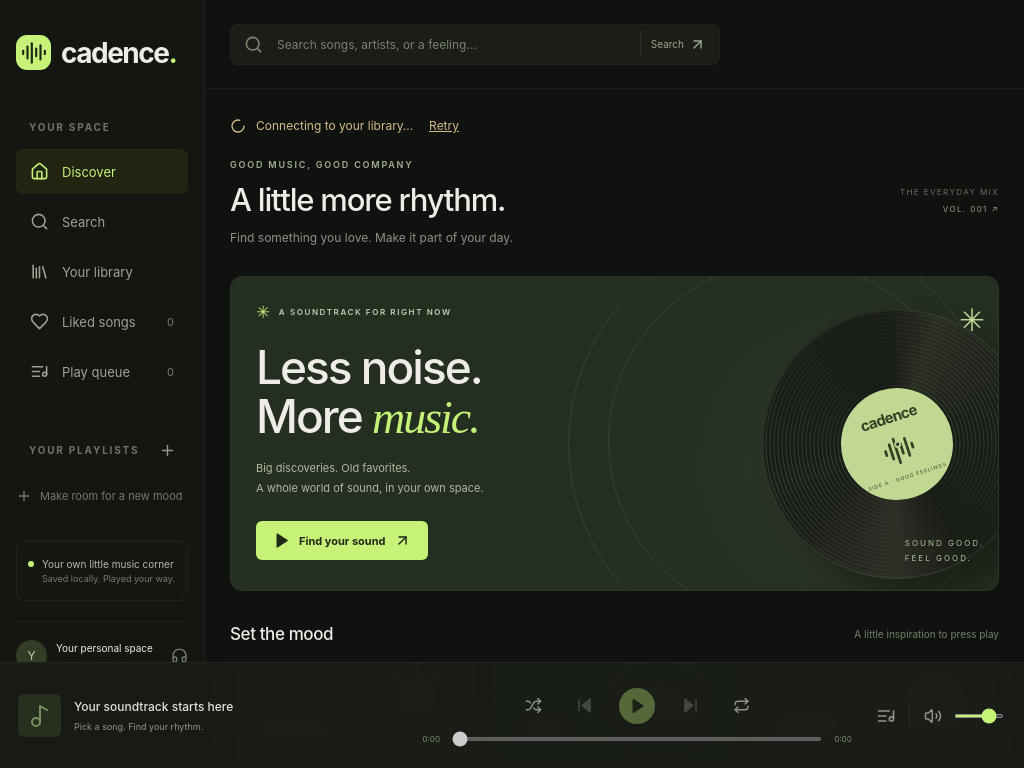
Test case: music app › starts a download when a result is clicked
The width and height of the screenshot is (1024, 768).
Type "Ocean" into the field named "Search YouTube" at (451, 44), box [275,36,628,52]
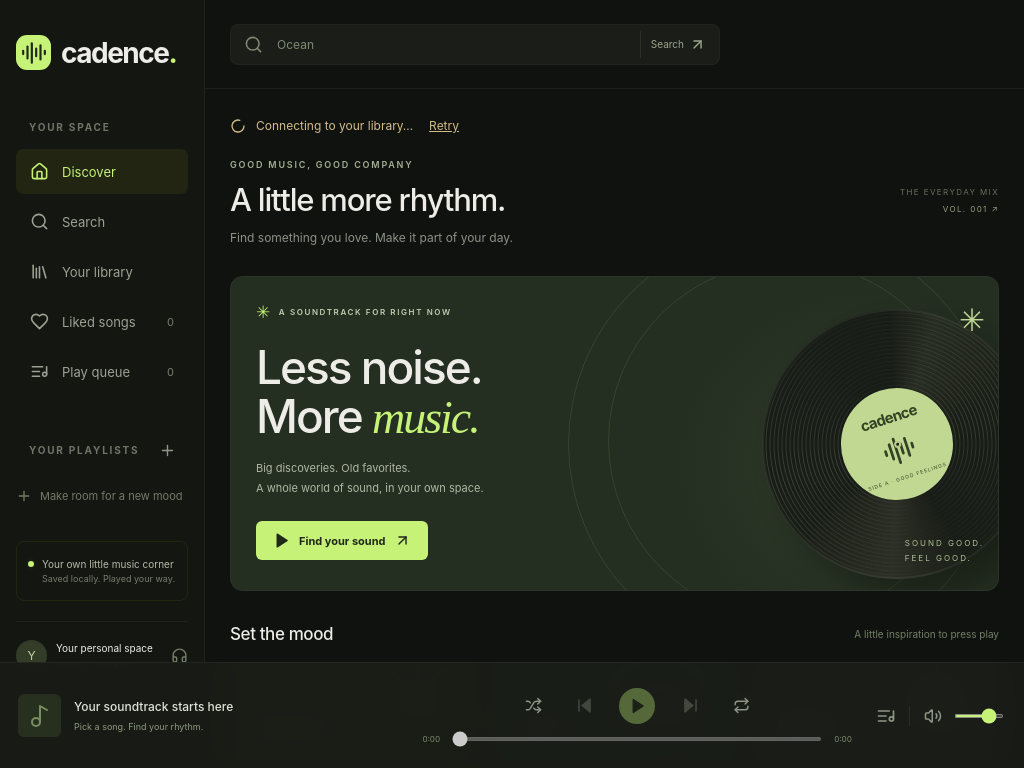
Click the button with aria-label "Submit search" at (673, 44), box [640,30,706,58]
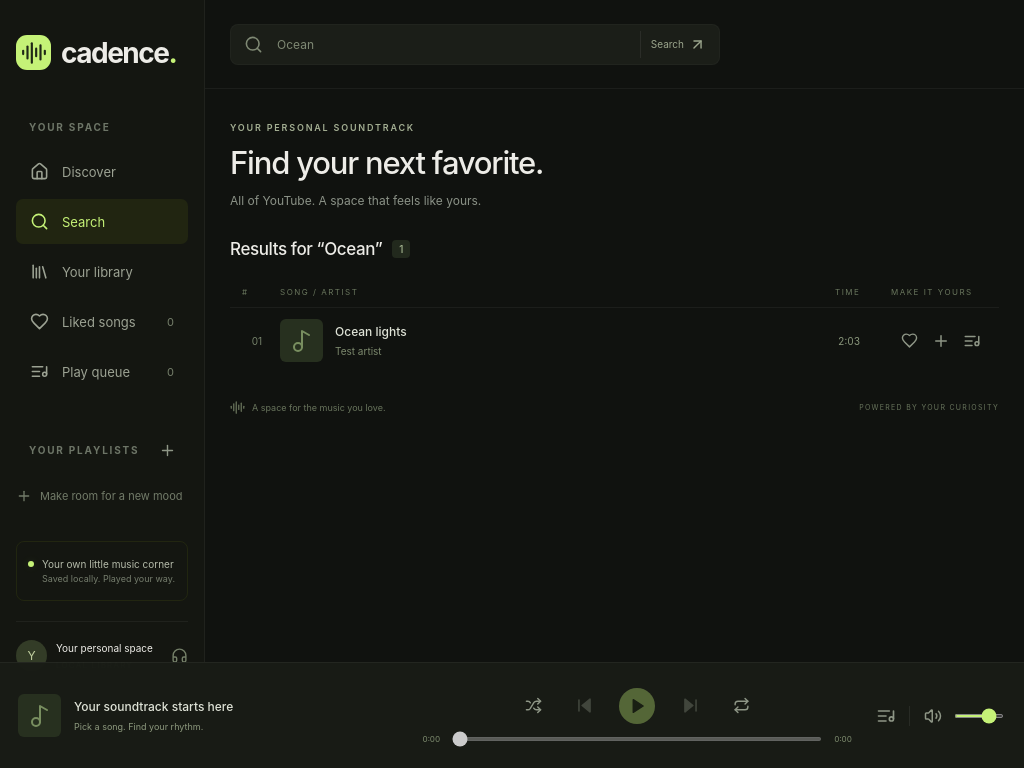
Click the button named "Play Ocean lights" at (257, 341), box [242,335,272,347]
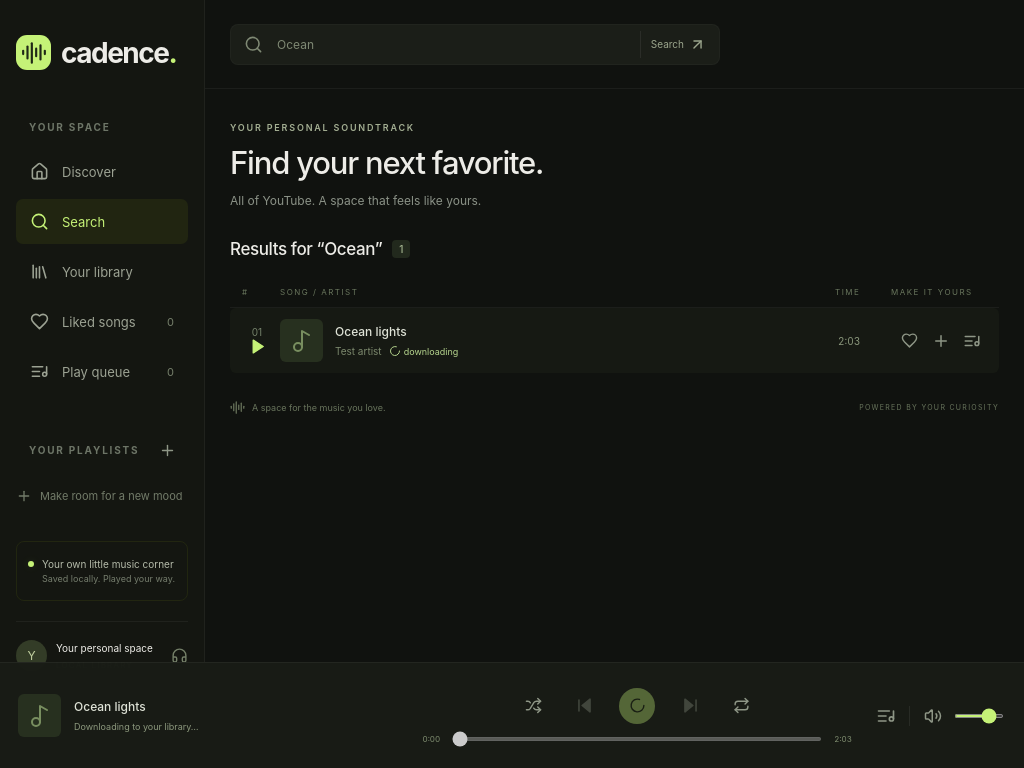
Expected: the button named "Play" is disabled, [619,688,655,724]
Expected: the text "Downloading to your library…" is shown, [74,721,198,732]
